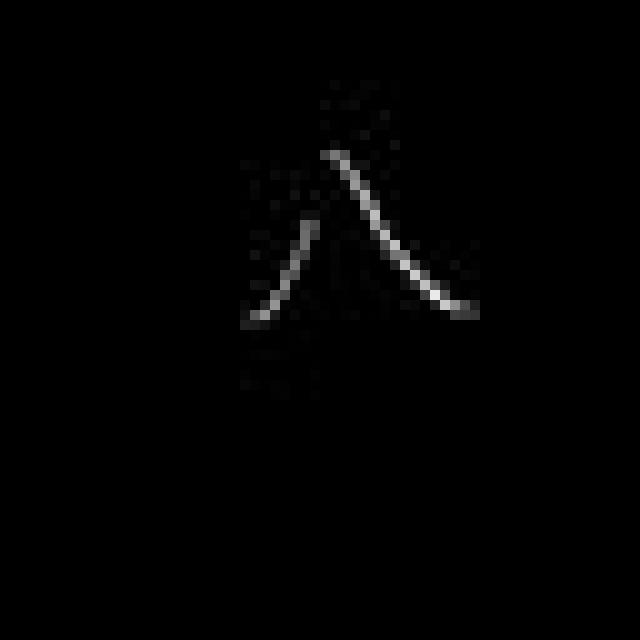8 -eight-: (245, 127, 481, 342)
